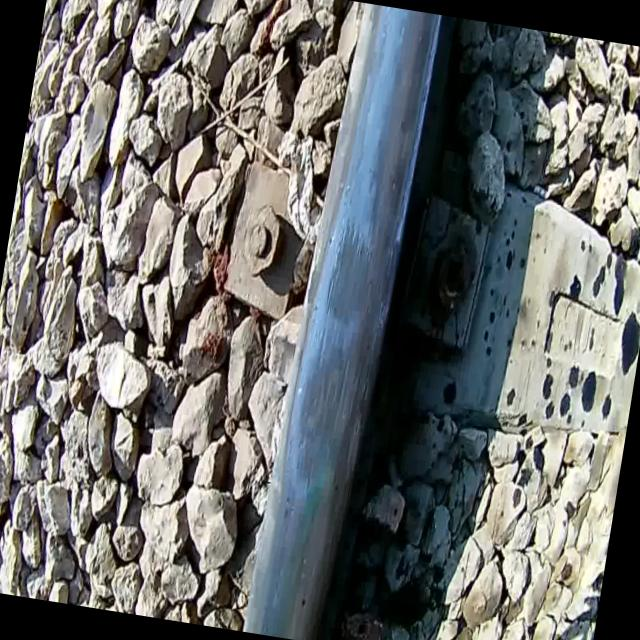Squats: (280, 336, 366, 502), (309, 205, 392, 338)
